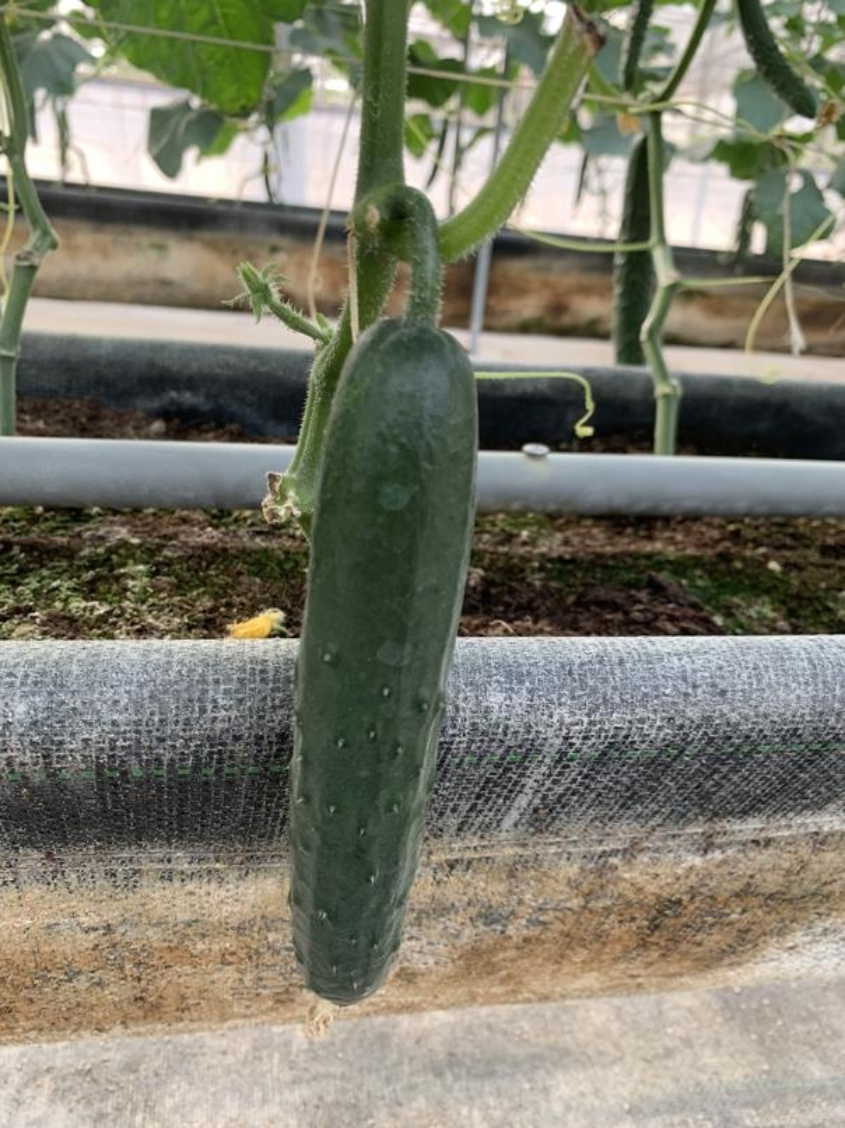mature: (264, 328, 490, 1025)
